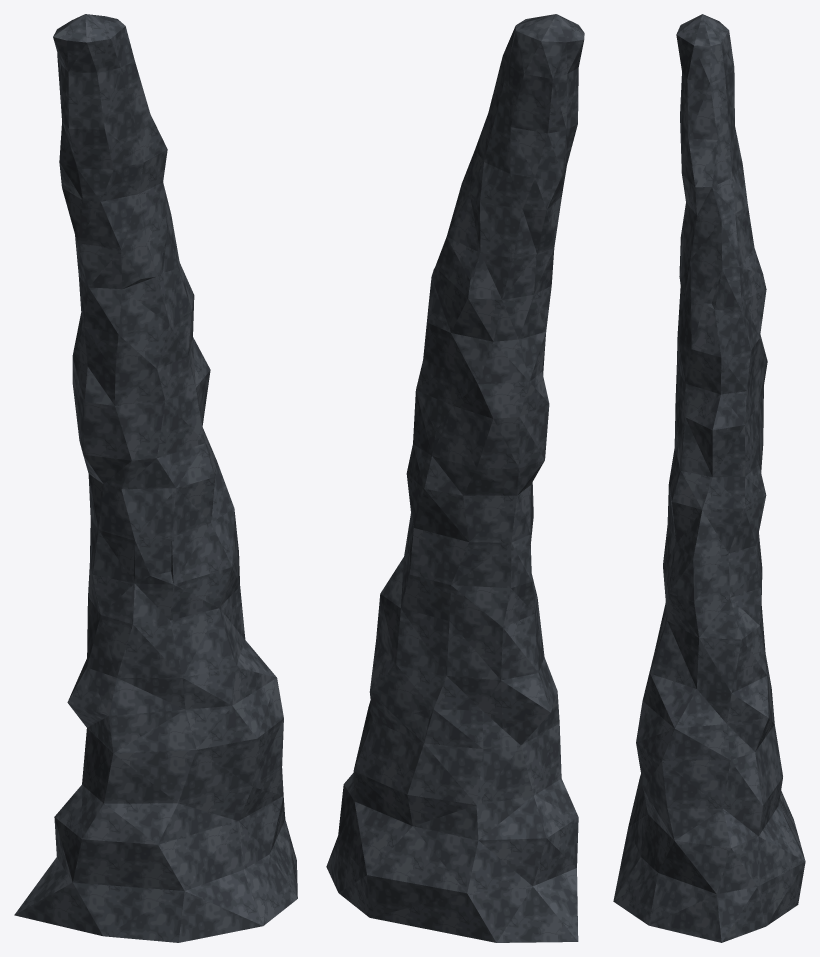
The model's file is rock_spire2_v1.fbx.
The picture shows the model from 3 angles, left to right: view 1: azimuth 30°, elevation 25°; view 2: azimuth 150°, elevation 25°; view 3: azimuth 270°, elevation 25°; orthographic projection. The views are drawn at different scales.
Visible parts, largest first — view 1: rock_spire2_v1_s0_lod0, rock_spire2_v1_s1_lod0, rock_spire2_v1_s3_lod0, rock_spire2_v1_s2_lod0, rock_spire2_v1_s5_lod0, rock_spire2_v1_s4_lod0; view 2: rock_spire2_v1_s0_lod0, rock_spire2_v1_s1_lod0, rock_spire2_v1_s3_lod0, rock_spire2_v1_s2_lod0, rock_spire2_v1_s5_lod0, rock_spire2_v1_s4_lod0; view 3: rock_spire2_v1_s0_lod0, rock_spire2_v1_s1_lod0, rock_spire2_v1_s3_lod0, rock_spire2_v1_s2_lod0, rock_spire2_v1_s5_lod0, rock_spire2_v1_s4_lod0.
Boxes of the visible parts, x1,y1,x2,y2 form: rock_spire2_v1_s0_lod0: (14,684,297,942); rock_spire2_v1_s1_lod0: (67,529,277,741); rock_spire2_v1_s3_lod0: (72,258,210,436); rock_spire2_v1_s2_lod0: (77,400,236,576); rock_spire2_v1_s5_lod0: (53,14,166,173); rock_spire2_v1_s4_lod0: (60,148,179,279); rock_spire2_v1_s0_lod0: (326,695,578,942); rock_spire2_v1_s1_lod0: (369,535,558,732); rock_spire2_v1_s3_lod0: (414,269,552,448); rock_spire2_v1_s2_lod0: (406,419,546,581); rock_spire2_v1_s5_lod0: (476,14,584,182); rock_spire2_v1_s4_lod0: (434,148,565,281); rock_spire2_v1_s0_lod0: (613,700,805,942); rock_spire2_v1_s1_lod0: (640,555,772,733); rock_spire2_v1_s3_lod0: (675,275,767,454); rock_spire2_v1_s2_lod0: (664,420,766,579); rock_spire2_v1_s5_lod0: (676,14,742,184); rock_spire2_v1_s4_lod0: (679,167,763,304).
Size of what is drawn, in the model's own units: 1120 by 3619 by 759.
